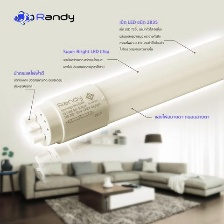light_bulb: (19, 30, 224, 149)
